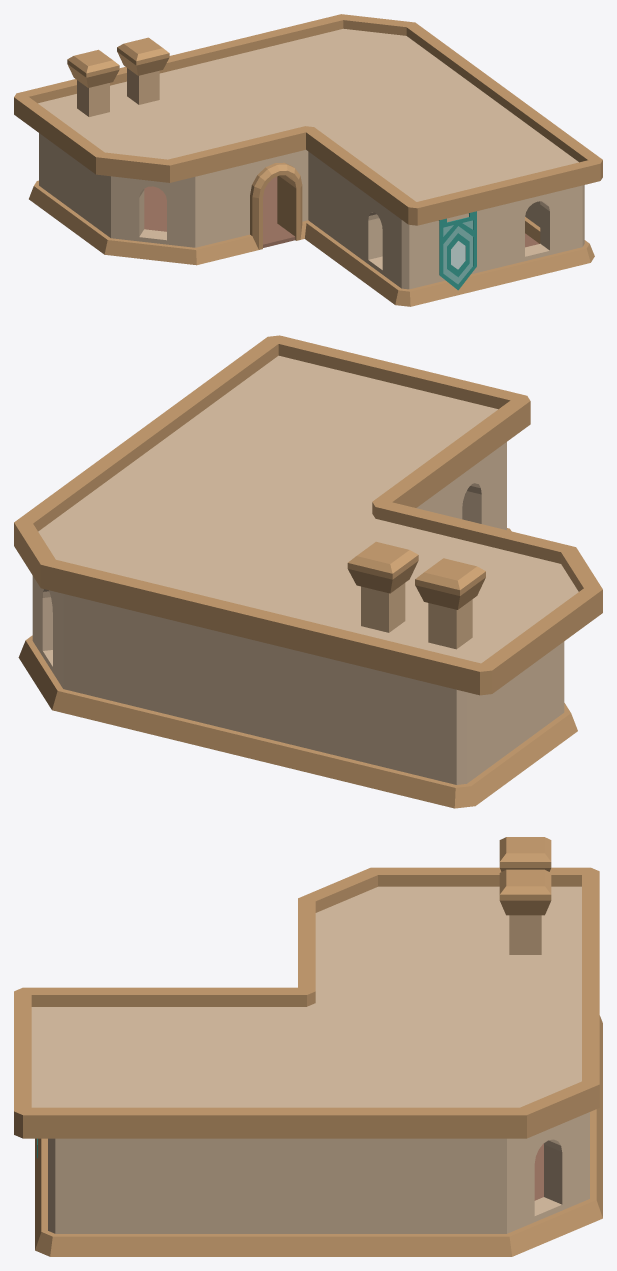
Rendered from DesertVillageHouseTwo.fbx.
3 renders of one model, top to bottom at view 1: azimuth 30°, elevation 25°; view 2: azimuth 150°, elevation 25°; view 3: azimuth 270°, elevation 25°, orthographic. The views are drawn at different scales.
Visible parts, largest first — view 1: mergedBlocks; view 2: mergedBlocks; view 3: mergedBlocks.
Boxes of the visible parts, x1,y1,x2,y2 form: mergedBlocks: (14,14,602,306); mergedBlocks: (14,335,602,808); mergedBlocks: (14,837,602,1256).
Bounding box in the file's own units: 45.62 × 17 × 45.63.
